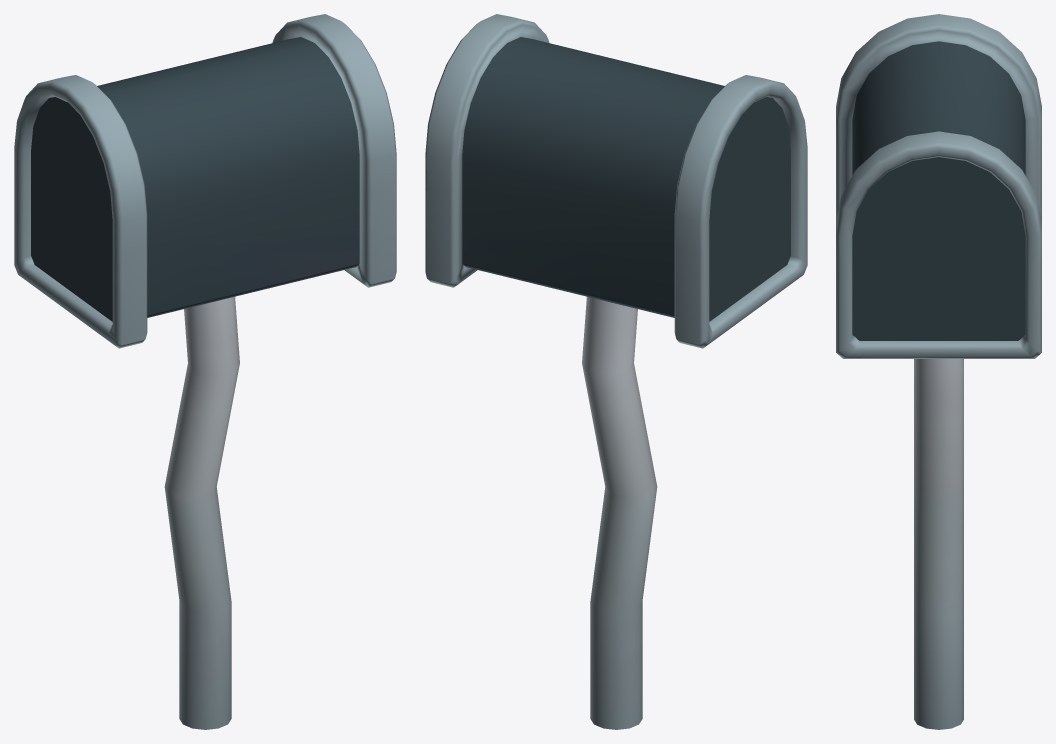
File: mailbox.glb
3 renders of one model, left to right at view 1: azimuth 30°, elevation 25°; view 2: azimuth 150°, elevation 25°; view 3: azimuth 270°, elevation 25°, orthographic. The views are drawn at different scales.
Visible parts, largest first — view 1: mailbox; view 2: mailbox; view 3: mailbox.
Part boxes in pixels (x1,y1,x2,y2): mailbox: (14, 14, 396, 729); mailbox: (425, 14, 807, 729); mailbox: (836, 14, 1041, 729).
Size of the model in its own units: 0.4592 by 1.04 by 0.3032.
1 material, 1 textured.
